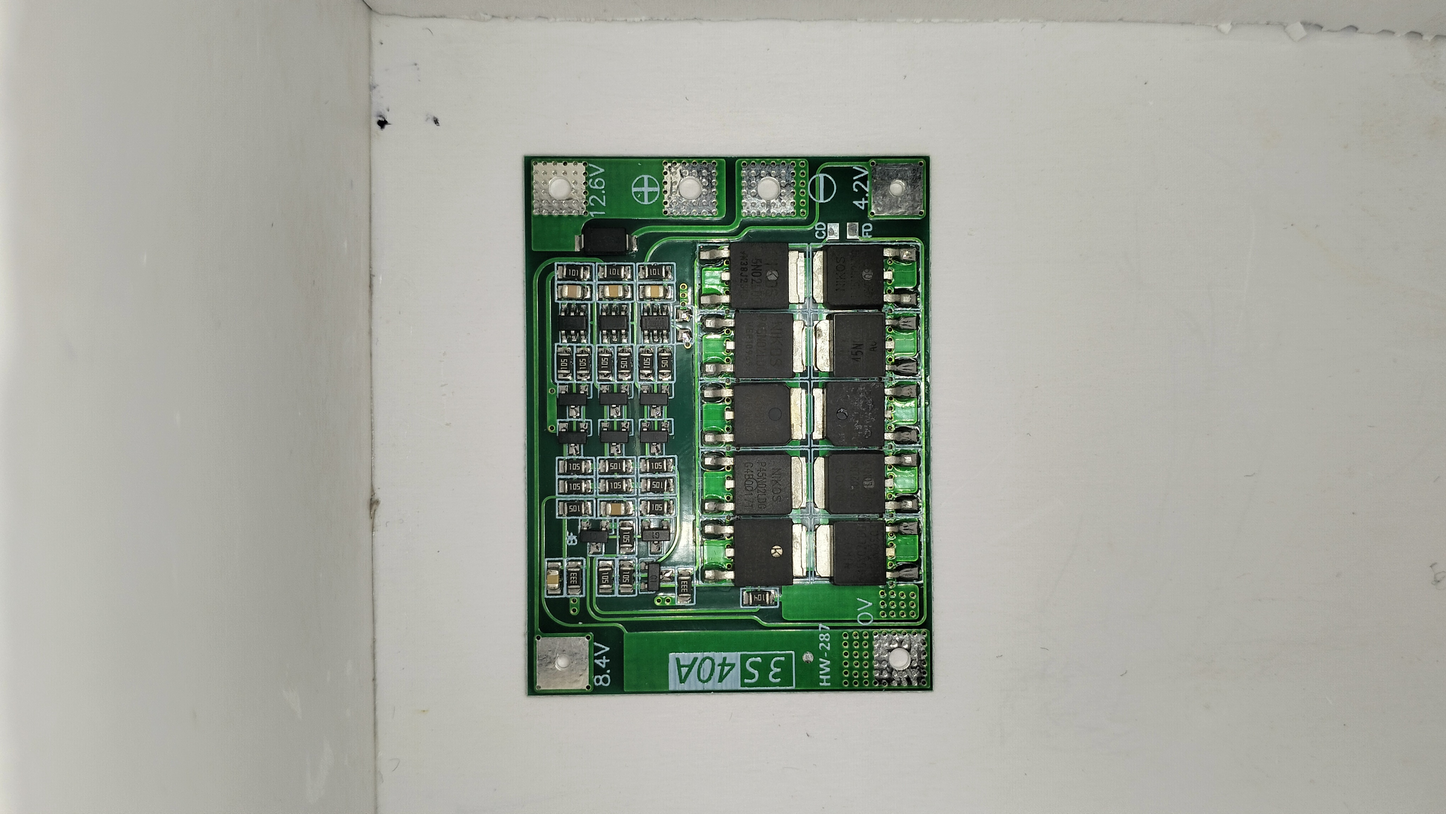C: (637, 283, 675, 300), (594, 283, 632, 299), (546, 561, 563, 596), (599, 502, 636, 518), (557, 282, 594, 298)
R 105: (638, 499, 675, 515), (574, 347, 592, 379), (595, 345, 613, 377), (638, 347, 656, 379), (654, 346, 672, 378), (619, 524, 637, 556), (557, 458, 593, 474), (557, 476, 593, 492), (598, 479, 634, 495), (640, 478, 676, 494), (596, 561, 614, 592), (619, 561, 637, 592), (635, 458, 672, 473), (558, 346, 575, 378), (616, 344, 633, 376), (557, 502, 593, 517), (597, 458, 633, 473)
R EEE: (676, 568, 694, 603), (565, 560, 583, 594)
R101: (740, 589, 781, 607), (555, 265, 593, 282), (639, 263, 677, 280), (598, 264, 636, 281)
diode: (572, 226, 641, 256)
ic 1: (809, 242, 920, 309), (698, 244, 808, 311), (813, 518, 923, 585), (814, 312, 924, 379), (703, 521, 813, 588), (704, 448, 814, 515), (810, 451, 921, 517), (811, 382, 922, 448), (699, 383, 809, 449), (697, 312, 807, 378)
ic 2: (637, 305, 670, 342), (596, 305, 629, 342), (558, 304, 590, 341)
transitor: (579, 520, 612, 555), (640, 519, 673, 554), (596, 420, 629, 455), (637, 422, 670, 457), (639, 559, 672, 593), (634, 385, 667, 419), (598, 385, 631, 419), (556, 385, 588, 420), (557, 422, 589, 457)
